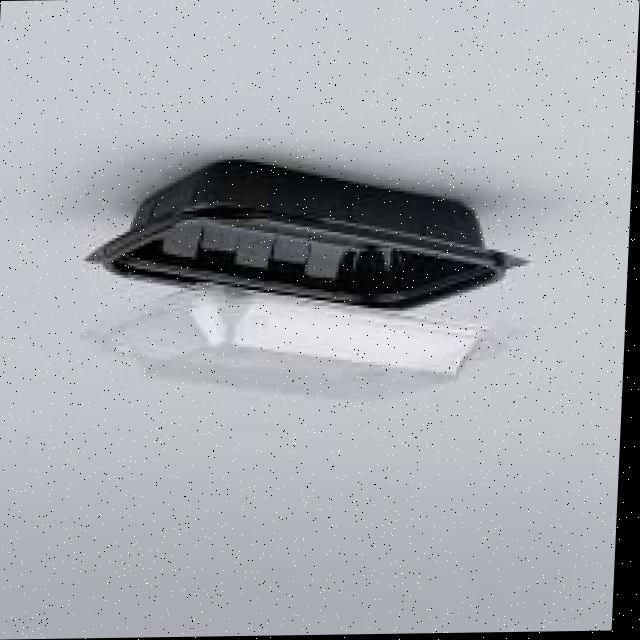disposable: (82, 150, 530, 321)
